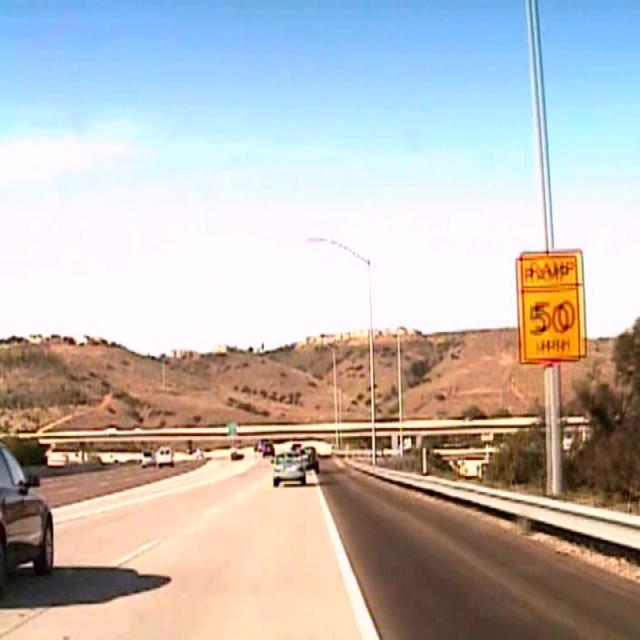speedLimit50: (514, 248, 588, 363)
